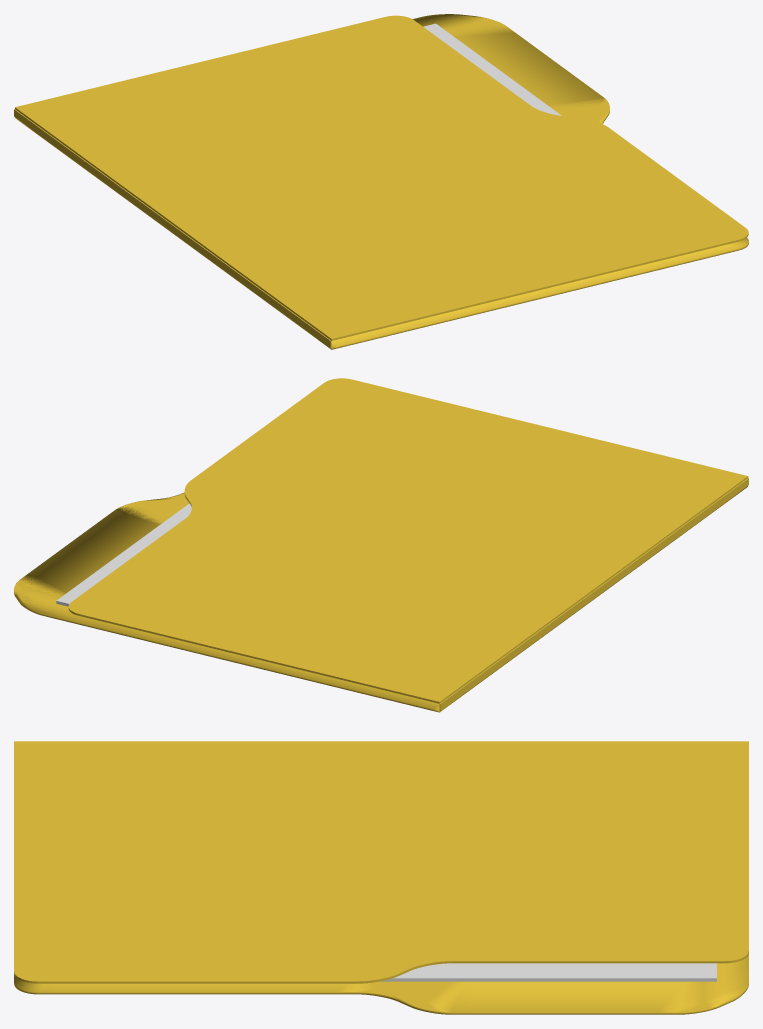
The model's file is portfolio.glb.
The picture shows the model from 3 angles, top to bottom: view 1: azimuth 30°, elevation 25°; view 2: azimuth 150°, elevation 25°; view 3: azimuth 270°, elevation 25°; orthographic projection. The views are drawn at different scales.
Visible parts, largest first — view 1: cover, Portfolio, hinge, Whitepaper; view 2: cover, Portfolio, hinge, Whitepaper; view 3: cover, Portfolio, Whitepaper.
Boxes of the visible parts, x1=… form: cover: x1=15, y1=15, x2=748, y2=340; Portfolio: x1=15, y1=14, x2=748, y2=349; hinge: x1=14, y1=109, x2=331, y2=347; Whitepaper: x1=423, y1=23, x2=561, y2=115; cover: x1=68, y1=378, x2=748, y2=703; Portfolio: x1=14, y1=486, x2=747, y2=712; hinge: x1=439, y1=478, x2=748, y2=710; Whitepaper: x1=56, y1=503, x2=191, y2=606; cover: x1=14, y1=741, x2=748, y2=983; Portfolio: x1=14, y1=953, x2=748, y2=1014; Whitepaper: x1=380, y1=963, x2=716, y2=981.
Bounding box in the file's own units: 25.68 × 0.5761 × 30.51.
